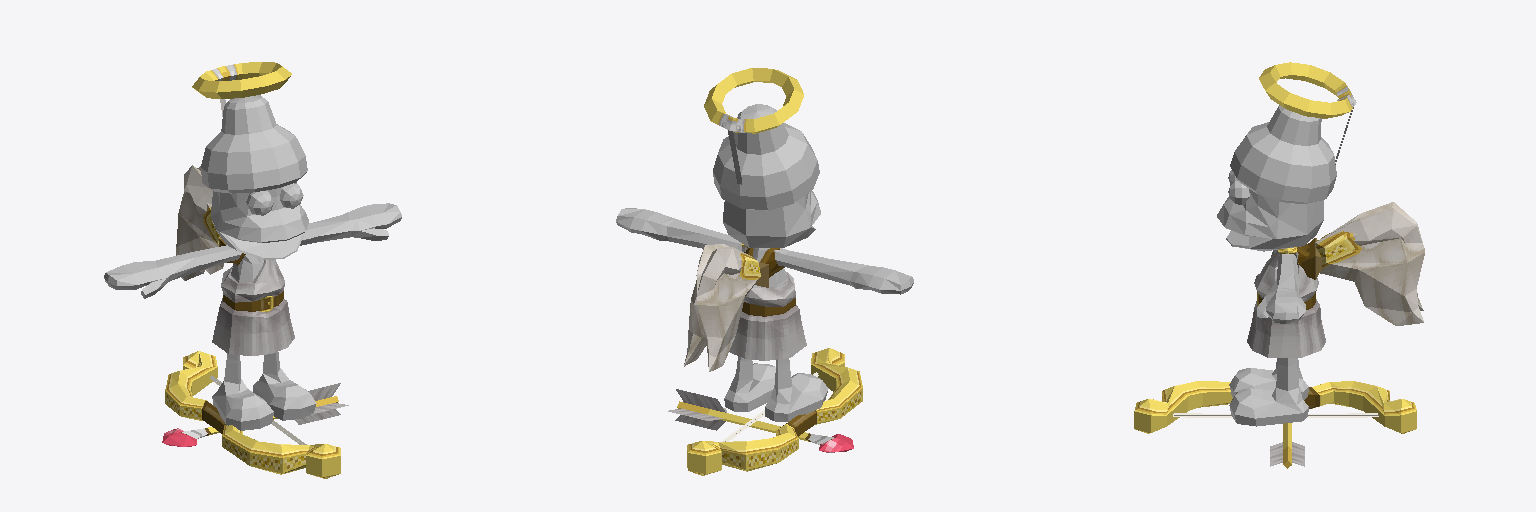
3 views of the same model, side by side, from view 1: azimuth 30°, elevation 25°; view 2: azimuth 150°, elevation 25°; view 3: azimuth 270°, elevation 25° (orthographic).
Visible parts, largest first — view 1: Regroup00, Regroup06, Regroup02, Regroup01, Regroup07, Regroup03, Regroup11, Regroup08, Regroup04; view 2: Regroup00, Regroup06, Regroup01, Regroup02, Regroup03, Regroup07, Regroup08, Regroup04, Regroup11; view 3: Regroup00, Regroup04, Regroup06, Regroup01, Regroup02, Regroup07, Regroup03, Regroup11, Regroup08.
Part boxes in pixels (bbox=[...]): Regroup00: bbox=[104, 182, 401, 430]; Regroup06: bbox=[165, 351, 340, 478]; Regroup02: bbox=[212, 238, 294, 355]; Regroup01: bbox=[201, 124, 307, 193]; Regroup07: bbox=[192, 62, 291, 116]; Regroup03: bbox=[176, 166, 220, 280]; Regroup11: bbox=[221, 95, 276, 134]; Regroup08: bbox=[162, 383, 348, 446]; Regroup04: bbox=[184, 165, 223, 274]; Regroup00: bbox=[616, 191, 913, 421]; Regroup06: bbox=[687, 348, 862, 475]; Regroup01: bbox=[713, 123, 819, 210]; Regroup02: bbox=[729, 243, 806, 360]; Regroup03: bbox=[696, 244, 760, 371]; Regroup07: bbox=[704, 68, 803, 184]; Regroup08: bbox=[668, 389, 853, 452]; Regroup04: bbox=[684, 247, 747, 366]; Regroup11: bbox=[734, 104, 788, 154]; Regroup00: bbox=[1217, 189, 1323, 426]; Regroup04: bbox=[1315, 202, 1424, 325]; Regroup06: bbox=[1134, 381, 1416, 433]; Regroup01: bbox=[1230, 122, 1336, 203]; Regroup02: bbox=[1247, 238, 1325, 357]; Regroup07: bbox=[1259, 62, 1356, 164]; Regroup03: bbox=[1315, 208, 1423, 310]; Regroup11: bbox=[1267, 105, 1321, 145]; Regroup08: bbox=[1270, 423, 1304, 468].
Bounding box in the file's own units: 11.96 × 14.38 × 10.33.
Materials: 4 (1 with a texture image).